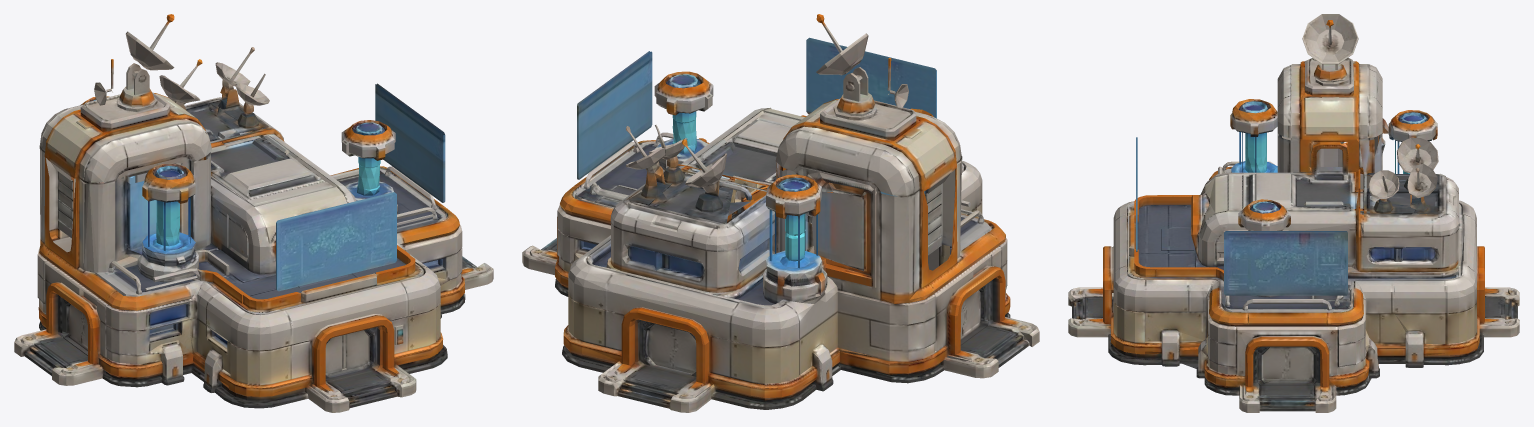
File: tech-center.glb
3 renders of one model, left to right at view 1: azimuth 30°, elevation 25°; view 2: azimuth 150°, elevation 25°; view 3: azimuth 270°, elevation 25°, orthographic. The views are drawn at different scales.
Parts seen in each view (by area): view 1: tripo_node_1d9cf677-5451-45d4-b9c6-81397b2ff12c; view 2: tripo_node_1d9cf677-5451-45d4-b9c6-81397b2ff12c; view 3: tripo_node_1d9cf677-5451-45d4-b9c6-81397b2ff12c.
Part boxes in pixels (<box>): tripo_node_1d9cf677-5451-45d4-b9c6-81397b2ff12c: <box>14,14,493,412</box>; tripo_node_1d9cf677-5451-45d4-b9c6-81397b2ff12c: <box>522,14,1039,412</box>; tripo_node_1d9cf677-5451-45d4-b9c6-81397b2ff12c: <box>1068,14,1519,412</box>.
Bounding box in the file's own units: 1 × 0.6557 × 0.9924.
Materials: 1 (1 with a texture image).
